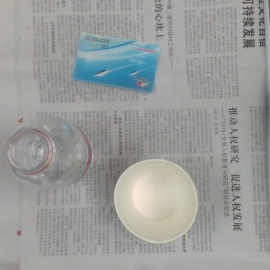bottle: (8, 115, 92, 193)
card: (75, 32, 161, 94)
cup: (114, 159, 198, 246)
